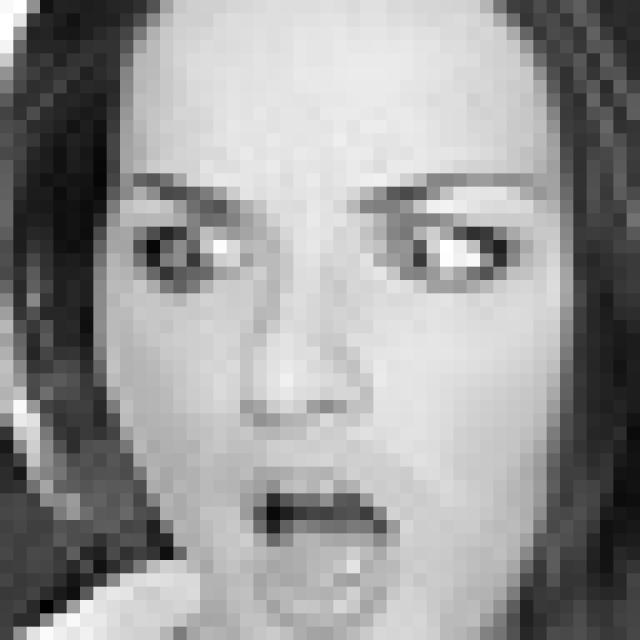surprise: (116, 158, 552, 633)
